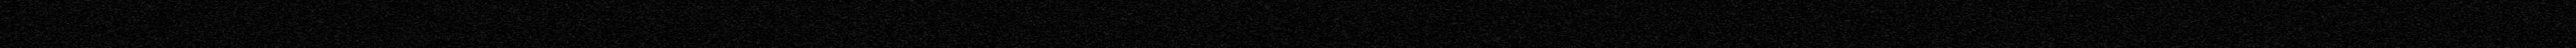wv_am: (779, 0, 782, 48), (100, 0, 103, 48)
wv_cw: (2275, 0, 2285, 31), (2275, 31, 2285, 48), (490, 0, 493, 48), (2292, 0, 2295, 48)
wv_lsb: (2325, 0, 2330, 48)
wv_usb: (1755, 30, 1758, 33), (1755, 13, 1758, 17)
wv_wbfm: (514, 0, 683, 23), (529, 35, 667, 48), (1268, 0, 1273, 41), (1249, 0, 1253, 41), (1229, 0, 1234, 41), (1209, 0, 1214, 41), (1189, 0, 1194, 41), (1288, 0, 1291, 41), (1171, 0, 1175, 41), (1229, 45, 1234, 48), (1209, 45, 1214, 48), (1249, 45, 1253, 48), (1191, 45, 1194, 48), (1268, 45, 1272, 48), (1171, 45, 1173, 48), (1290, 45, 1291, 48)
